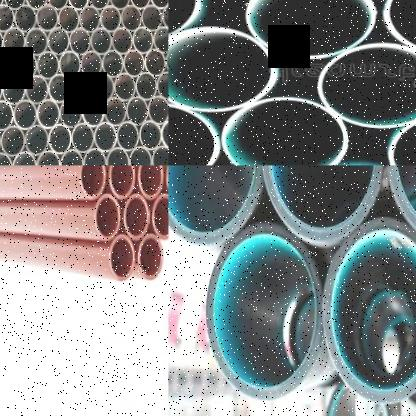pipe: (206, 224, 321, 401), (321, 218, 416, 404), (168, 25, 277, 113), (262, 166, 384, 242), (221, 96, 348, 166), (316, 41, 416, 127), (245, 0, 376, 60), (168, 166, 262, 246), (169, 104, 220, 166), (386, 165, 416, 244), (326, 385, 391, 416), (137, 233, 164, 281), (94, 193, 121, 241), (109, 234, 135, 282), (123, 194, 150, 240), (79, 165, 106, 199), (138, 165, 163, 200), (110, 165, 135, 200), (0, 125, 25, 158), (24, 125, 49, 156), (1, 75, 26, 106), (13, 100, 38, 130), (48, 124, 72, 155), (93, 122, 117, 153), (116, 121, 140, 152), (138, 120, 162, 151), (25, 75, 49, 105), (69, 74, 93, 104), (36, 99, 60, 129), (2, 27, 26, 57), (152, 194, 168, 239), (59, 98, 82, 129), (71, 123, 94, 154), (82, 97, 105, 128), (48, 74, 71, 104), (25, 27, 48, 57), (14, 51, 37, 81), (36, 51, 59, 80), (47, 27, 70, 56), (92, 73, 114, 103), (104, 97, 126, 127), (126, 96, 148, 126), (135, 72, 157, 102), (147, 95, 169, 125), (80, 51, 103, 79), (58, 51, 81, 79), (14, 5, 37, 33), (114, 73, 136, 102), (69, 27, 91, 56), (144, 49, 166, 78), (101, 51, 124, 78), (123, 50, 145, 78), (111, 27, 133, 55), (36, 5, 58, 33), (120, 5, 142, 33), (58, 6, 80, 33), (79, 6, 101, 33), (90, 28, 112, 55), (132, 27, 154, 54), (100, 5, 121, 33), (141, 5, 162, 32), (105, 147, 129, 166), (82, 148, 107, 166), (129, 146, 152, 165), (0, 99, 13, 131), (0, 51, 14, 80), (0, 4, 14, 33), (154, 25, 168, 54), (35, 150, 60, 166), (60, 150, 83, 166), (12, 152, 37, 166), (156, 72, 168, 100), (152, 145, 168, 165), (160, 120, 168, 150), (25, 0, 47, 10), (88, 0, 110, 10), (108, 0, 130, 10), (68, 0, 88, 10), (3, 0, 25, 9), (129, 0, 150, 9), (47, 0, 68, 9), (161, 4, 168, 30), (149, 0, 169, 9)
